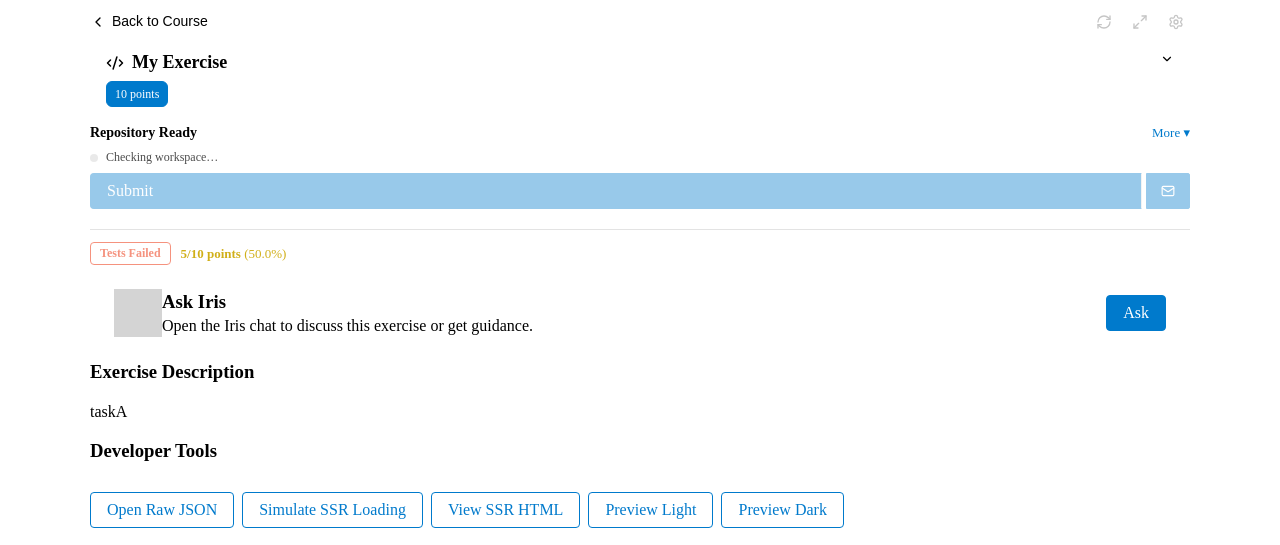
Test case: ExerciseDetailView › task overlay shows no-feedbacks copy when the latest build returned no feedbacks
The image size is (1280, 545).
Click the text with class "artemis-task" at [109, 412], box [90, 403, 127, 420]
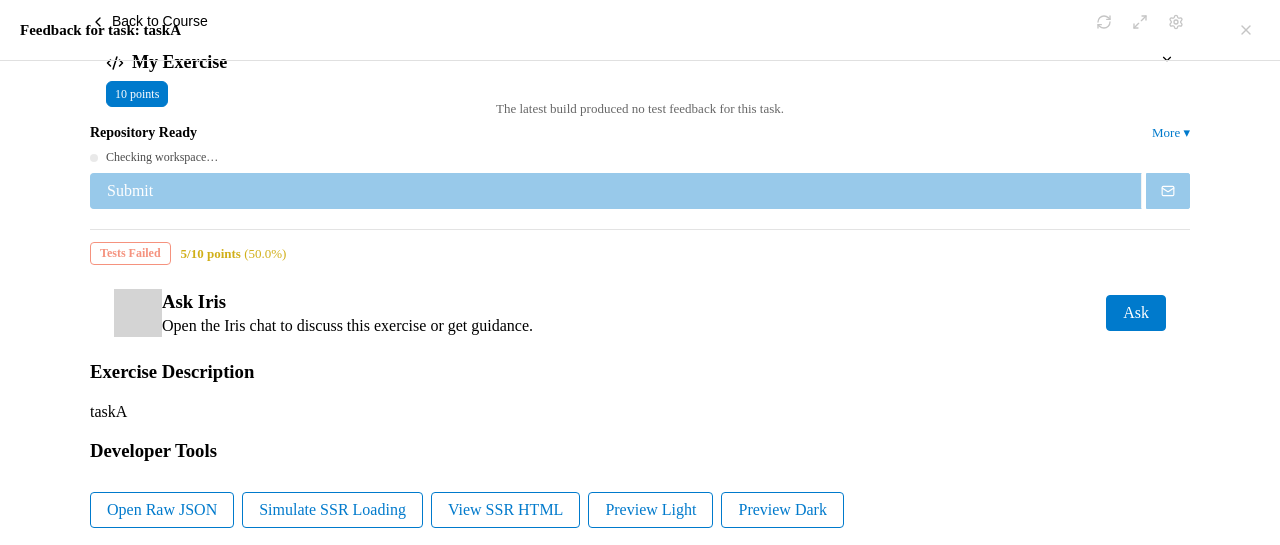
Check: the text "The latest build produced no test feedback for this task." is shown, box [496, 101, 784, 116]
